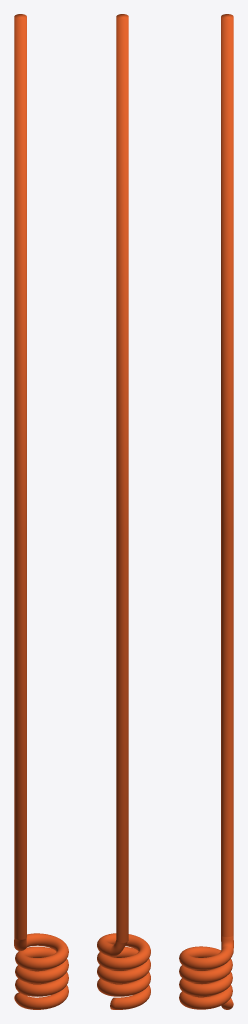
File: copper.fbx
3 renders of one model, left to right at view 1: azimuth 90°, elevation 25°; view 2: azimuth 150°, elevation 25°; view 3: azimuth 270°, elevation 25°, orthographic.
Visible parts, largest first — view 1: copper; view 2: copper; view 3: copper.
Boxes of the visible parts, x1,y1,x2,y2 form: copper: (14, 14, 68, 1009); copper: (97, 14, 150, 1009); copper: (179, 14, 233, 1009).
Size of the model in its own units: 42 by 852 by 42.78.
